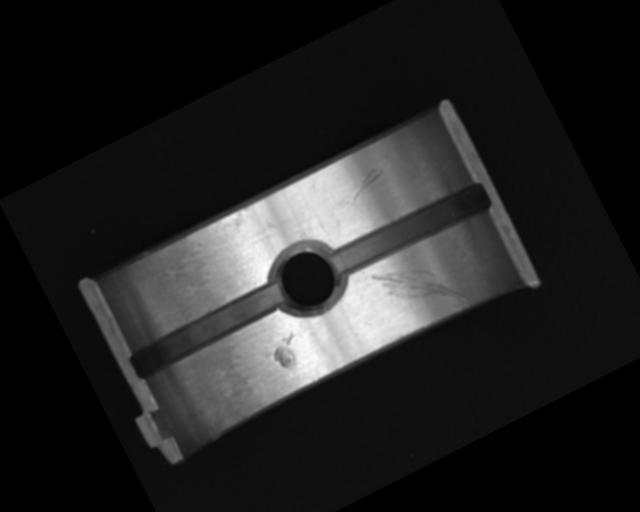bruise: (266, 331, 306, 371)
gap: (326, 177, 492, 283), (127, 278, 288, 379)
hole: (261, 233, 350, 324)
nick: (369, 241, 468, 336), (334, 164, 391, 210)
